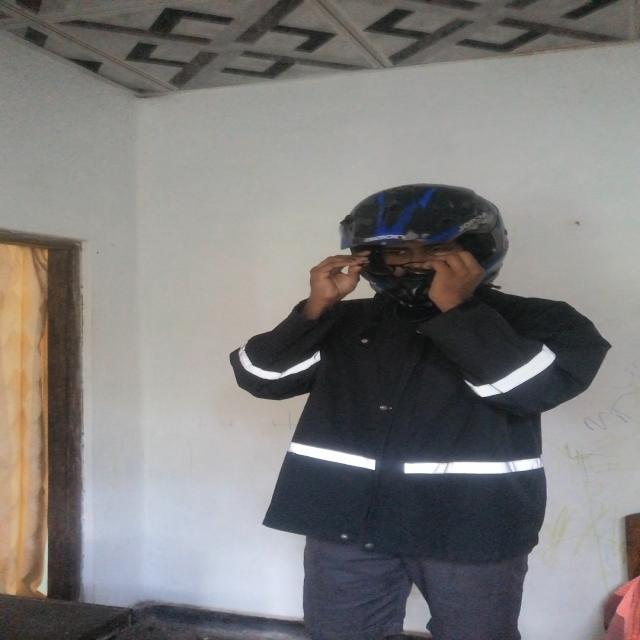Helmet_Wearer: (320, 185, 539, 308)
Jacket_Wearer: (233, 279, 614, 525)
